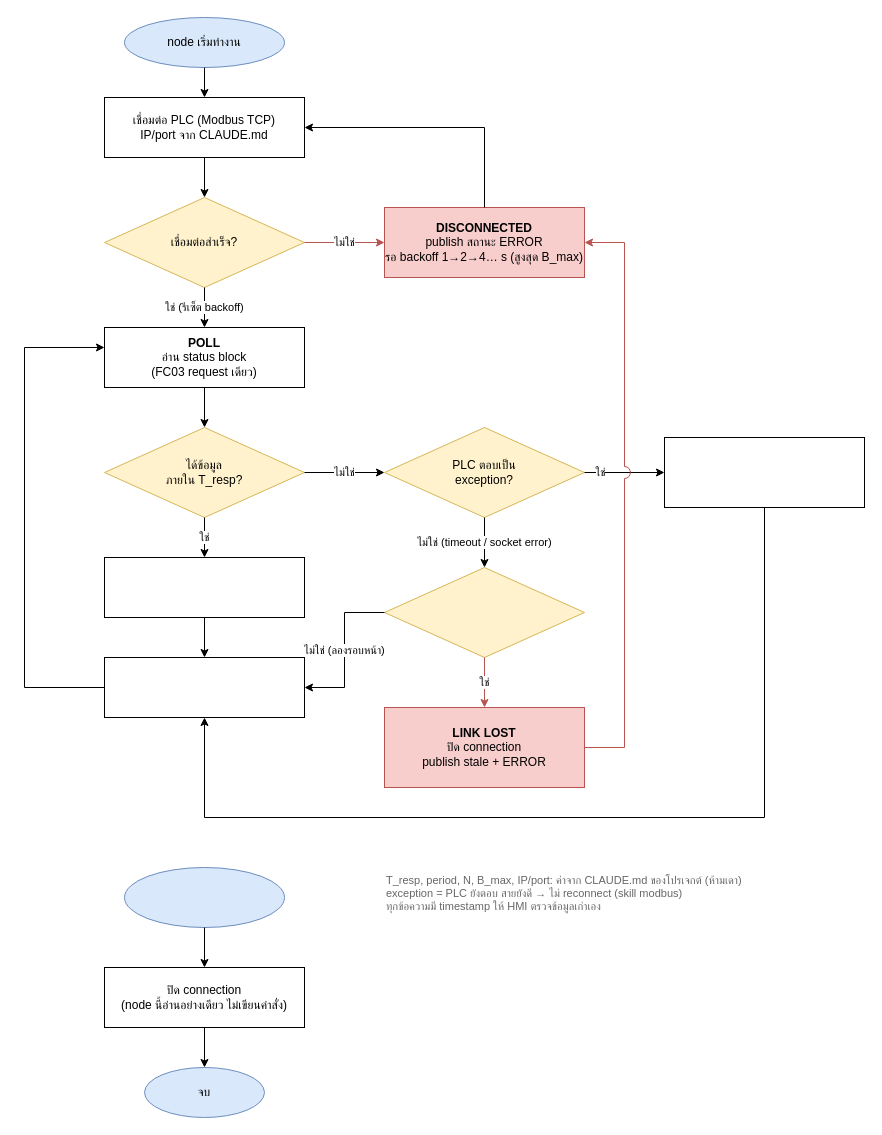
Some shapes in this 882 by 1135 pixel diagram are drawn without their labels. The shapes that lost their labels are listed below. From the top down, each one's centre as x and y in pixels, then its label:
[764,472]: log + diagnostic ERROR (address/ค่าผิด) ไม่ตัดสาย
[204,587]: publish สถานะ + timestamp ของรอบนี้
[484,612]: ล้มเหลวติดกัน ≥ N ครั้ง?
[204,687]: รอรอบถัดไป (period)
[204,897]: node ถูกสั่งปิด (ได้ทุกเมื่อ)
